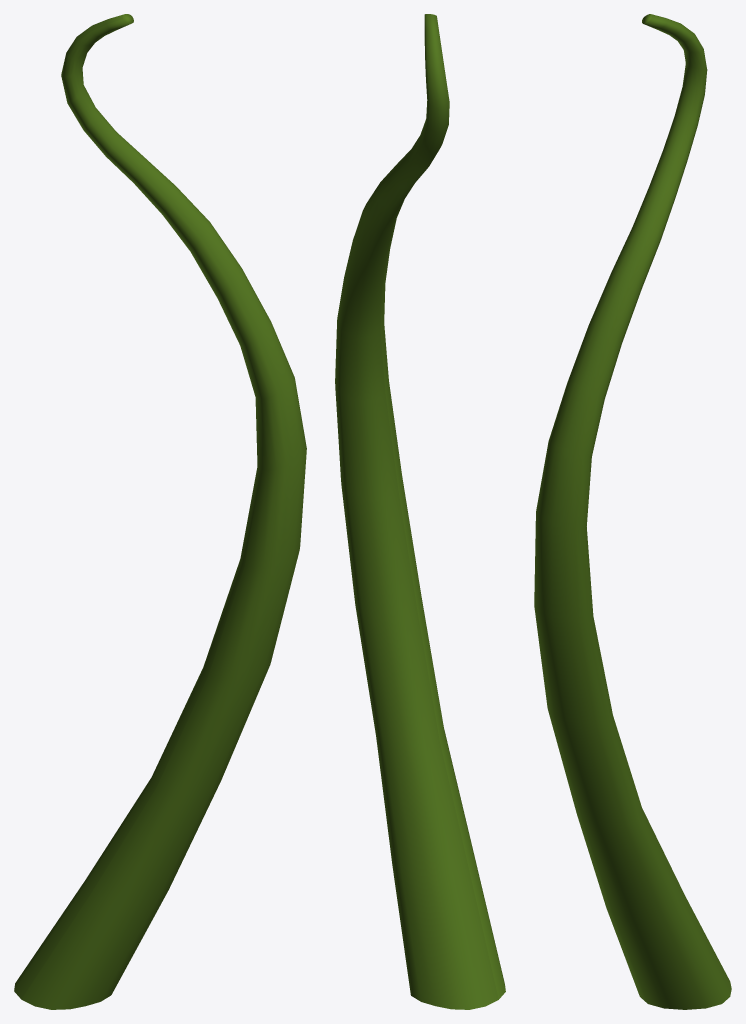
The model's file is LeafPlatform_stalk_1.fbx.
3 renders of one model, left to right at view 1: azimuth 30°, elevation 25°; view 2: azimuth 150°, elevation 25°; view 3: azimuth 270°, elevation 25°, orthographic. The views are drawn at different scales.
Parts seen in each view (by area): view 1: Object011; view 2: Object011; view 3: Object011.
Boxes of the visible parts, x1,y1,x2,y2 form: Object011: [14, 14, 306, 1009]; Object011: [335, 14, 505, 1009]; Object011: [534, 14, 731, 1009].
Bounding box in the file's own units: 11.23 × 47.04 × 8.45.
